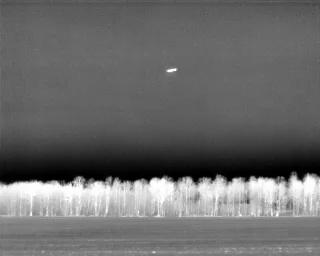DRONE: (163, 64, 181, 78)
